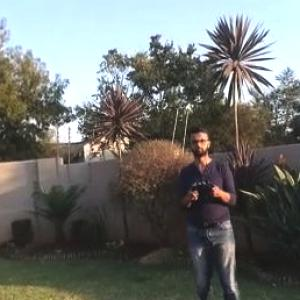follow: (174, 121, 246, 299)
